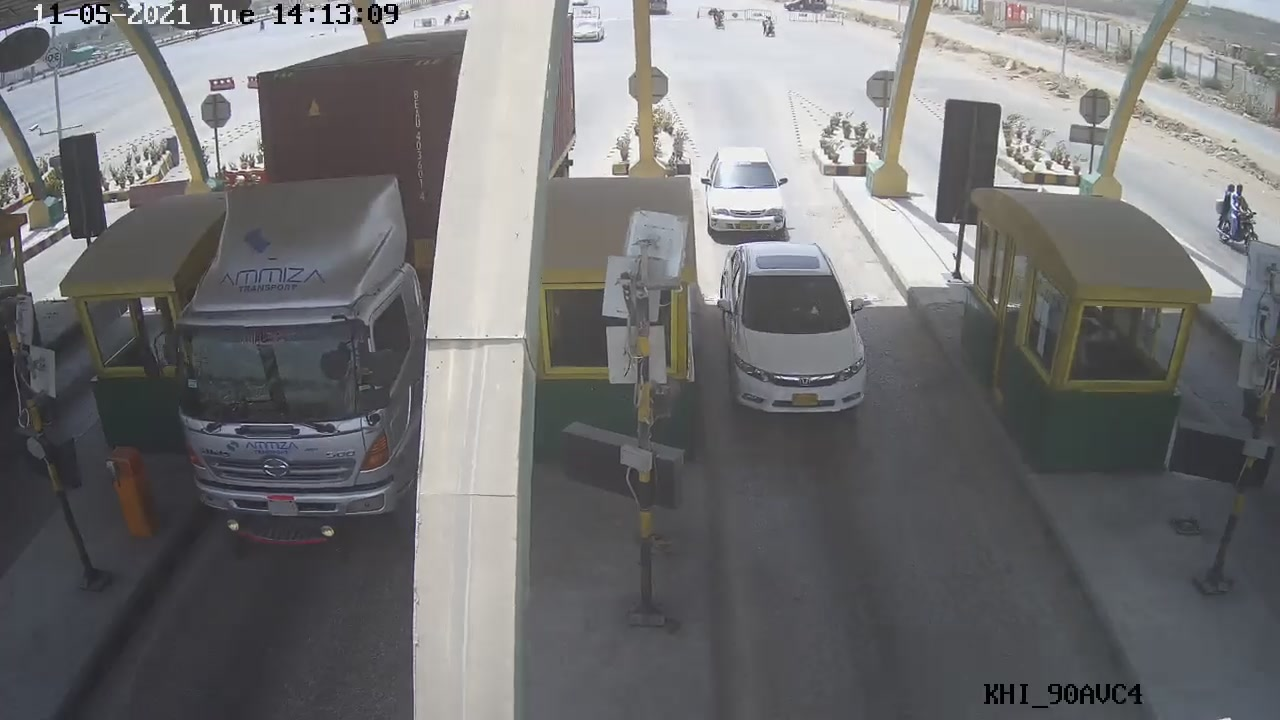F1: (715, 237, 883, 432)
